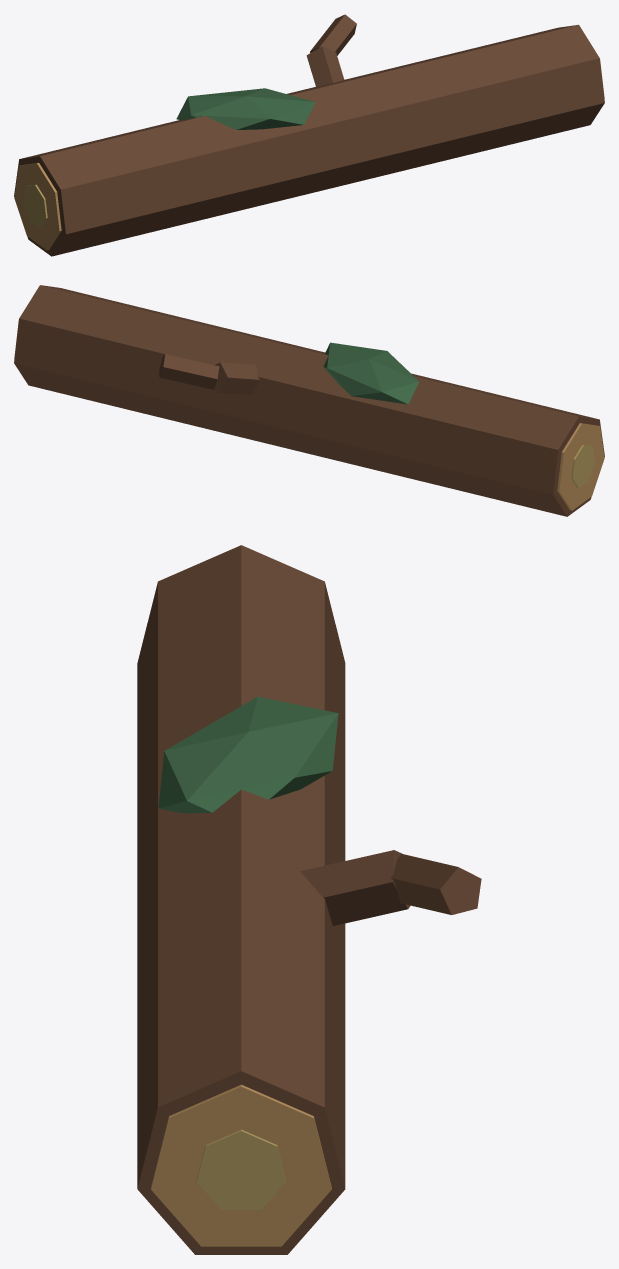
Rendered from FallenLog_B.fbx.
3 renders of one model, top to bottom at view 1: azimuth 30°, elevation 25°; view 2: azimuth 150°, elevation 25°; view 3: azimuth 270°, elevation 25°, orthographic. The views are drawn at different scales.
Parts seen in each view (by area): view 1: FallenLog_B; view 2: FallenLog_B; view 3: FallenLog_B.
Part boxes in pixels (x1=…): FallenLog_B: x1=14, y1=14, x2=604, y2=256; FallenLog_B: x1=14, y1=285, x2=604, y2=516; FallenLog_B: x1=137, y1=545, x2=481, y2=1254.
Size of the model in its own units: 2.44 by 0.452 by 0.6629.
Materials: 1 (1 with a texture image).
